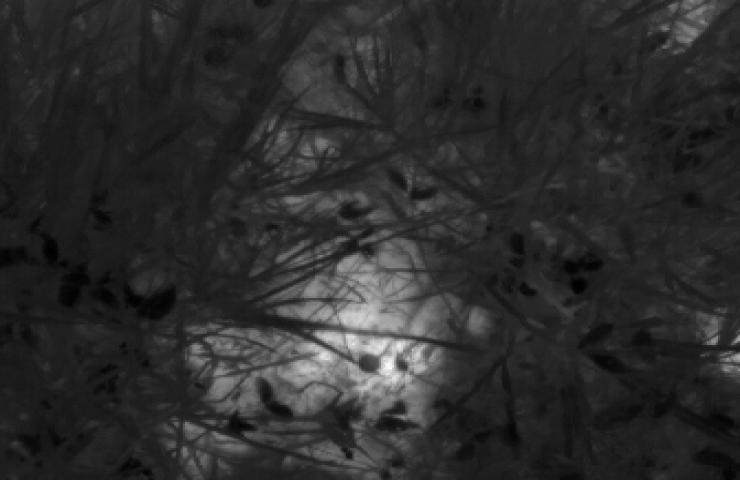landmines: (148, 214, 510, 480)
